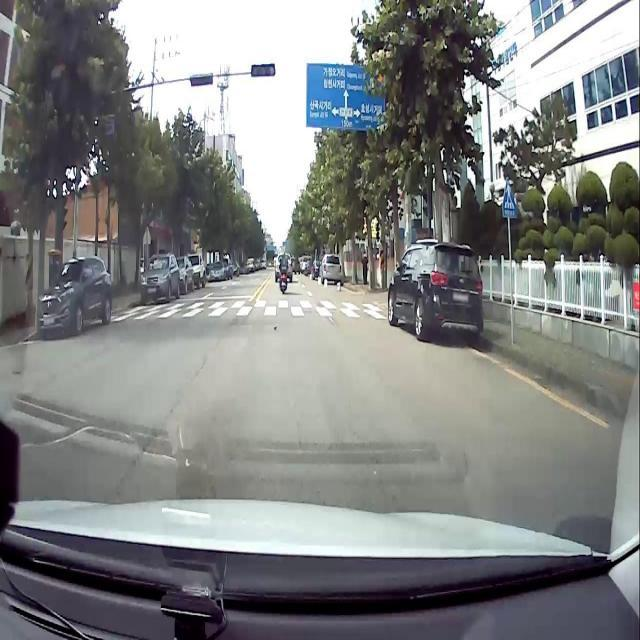crosswalk: (102, 301, 393, 325)
